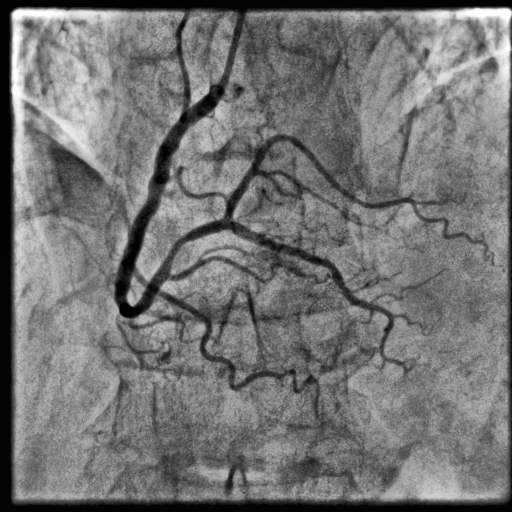pborca: (223, 135, 489, 256)
pda: (229, 219, 409, 377)
rca: (115, 84, 233, 318)
